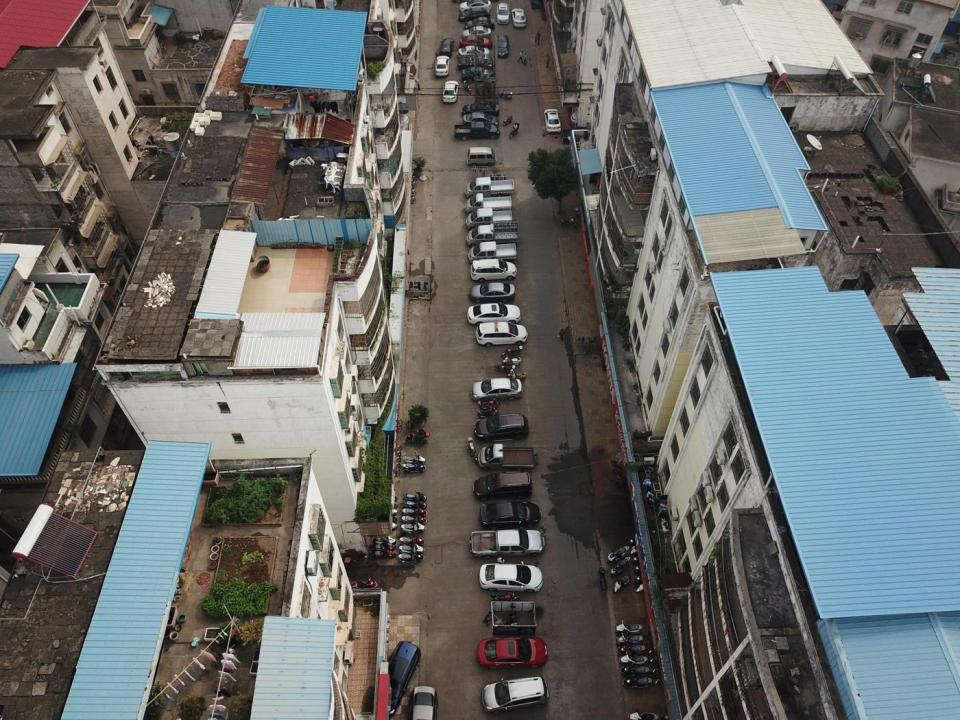car: (476, 635, 548, 669), (482, 676, 548, 713), (478, 563, 542, 592), (481, 501, 542, 531), (474, 414, 529, 442), (476, 322, 529, 346), (468, 302, 521, 325), (470, 378, 522, 400), (407, 685, 438, 720), (469, 282, 516, 303), (461, 100, 499, 116), (464, 112, 499, 126), (462, 66, 494, 81), (466, 16, 495, 31), (544, 108, 561, 133), (458, 55, 493, 67), (458, 0, 492, 12), (462, 25, 491, 39), (572, 109, 599, 124), (459, 8, 490, 21), (460, 36, 493, 48), (442, 80, 460, 102), (495, 34, 509, 58), (458, 46, 491, 56), (435, 55, 450, 76), (496, 3, 510, 25), (511, 8, 526, 28), (439, 38, 454, 56)
truck: (469, 528, 544, 560), (478, 444, 539, 470), (468, 222, 519, 246), (465, 176, 515, 198), (468, 241, 517, 263), (466, 207, 513, 229), (466, 192, 512, 212), (454, 121, 500, 139), (562, 127, 597, 143)
van: (376, 640, 421, 714), (473, 471, 532, 500), (470, 258, 517, 282), (467, 147, 496, 166)
